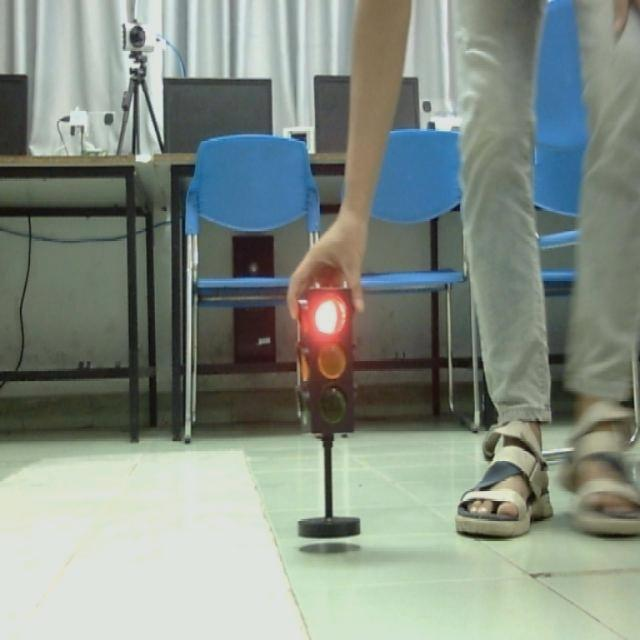Red: (293, 286, 363, 441)
